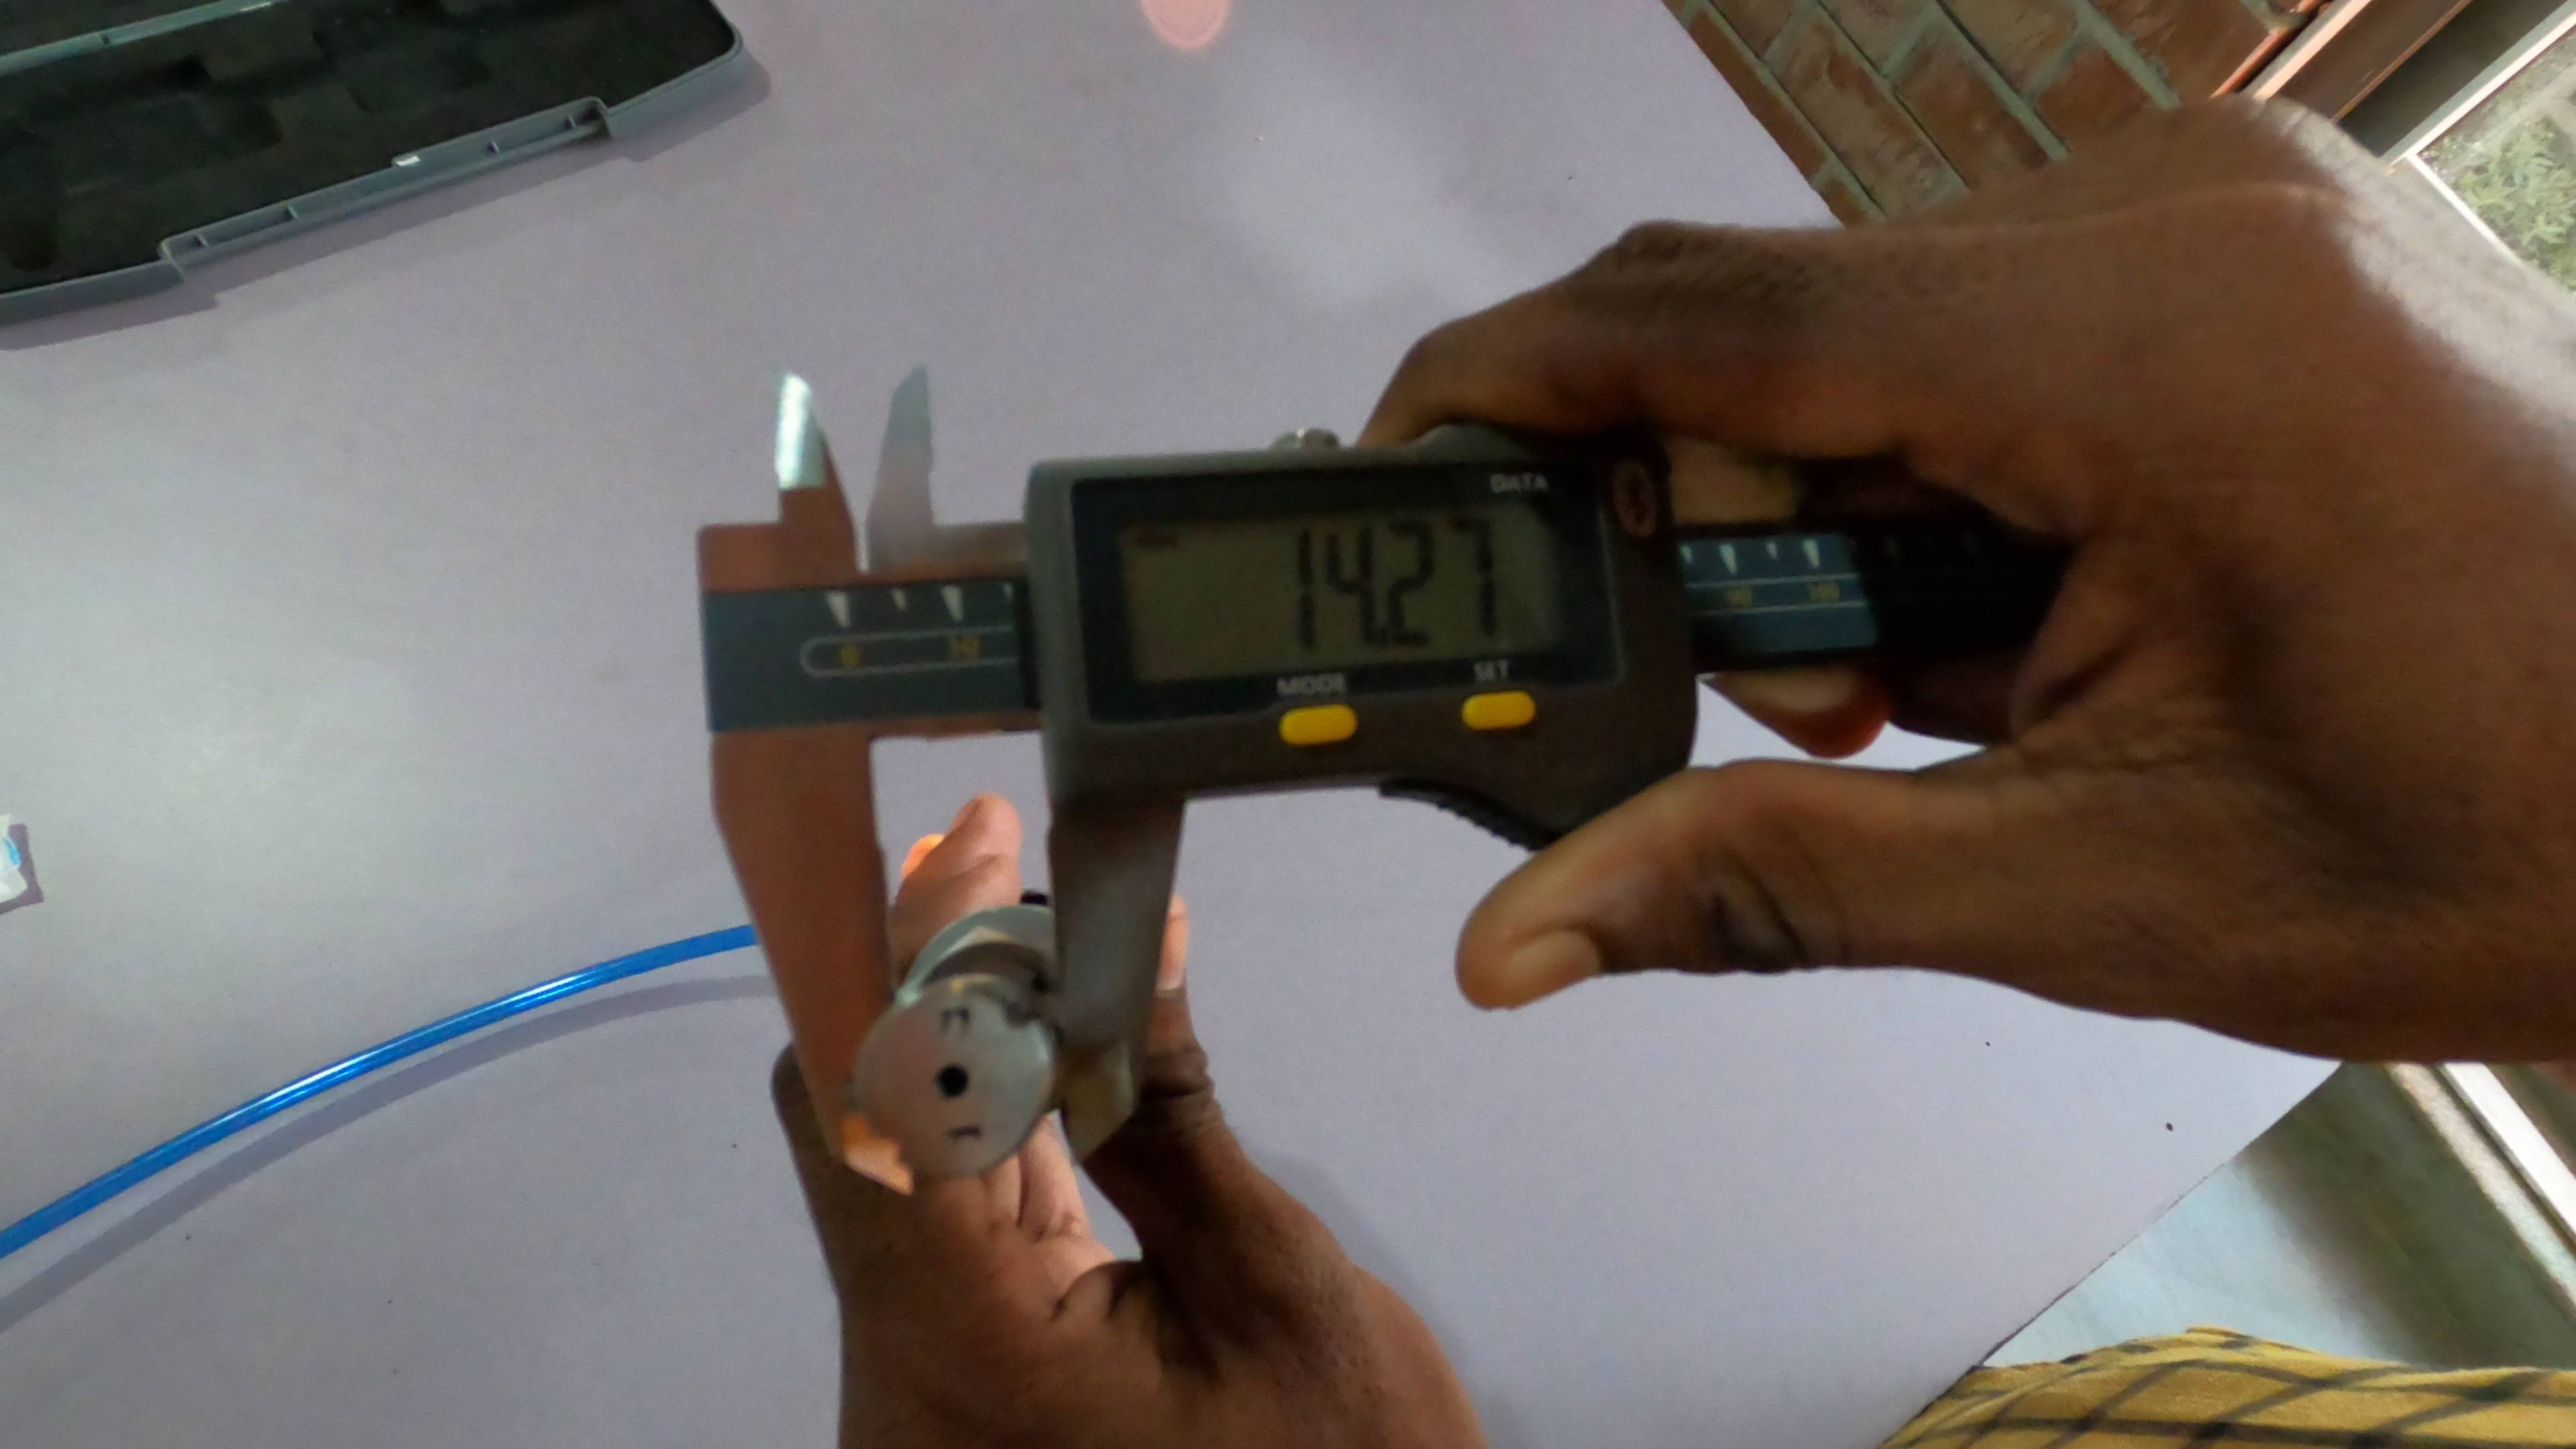vernier_caliper: (697, 373, 2031, 1203)
